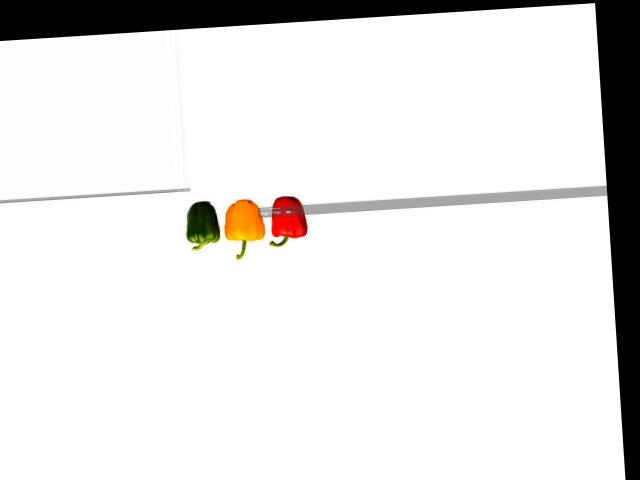bell_pepper: (180, 197, 220, 257)
